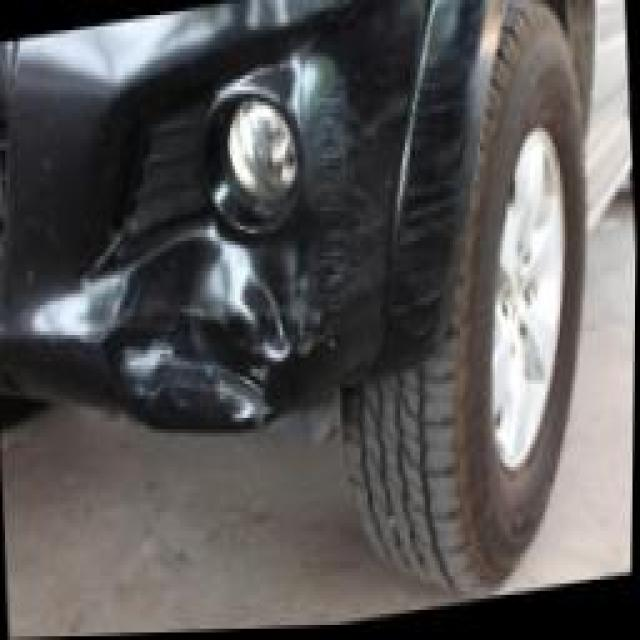Bumper: (0, 0, 515, 433)
